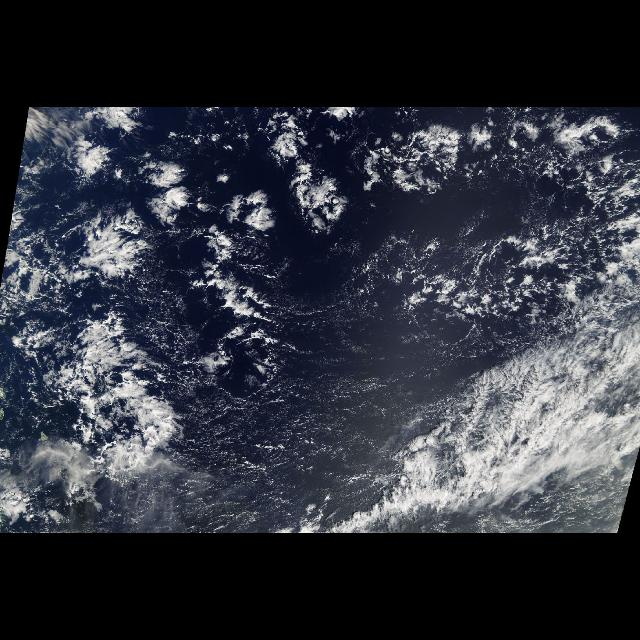Fish: (335, 351, 639, 534), (28, 298, 192, 484), (54, 186, 186, 292)
Flower: (75, 125, 467, 232)
Gravel: (350, 210, 640, 364)
Sugar: (170, 244, 428, 496)
